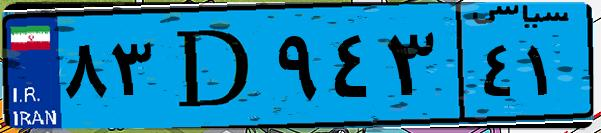1: (525, 38, 570, 115)
3: (385, 28, 445, 110), (110, 28, 158, 98)
4: (330, 28, 385, 110), (475, 38, 525, 113)
8: (57, 26, 110, 100)
9: (270, 28, 330, 110)
D: (158, 12, 270, 120)
